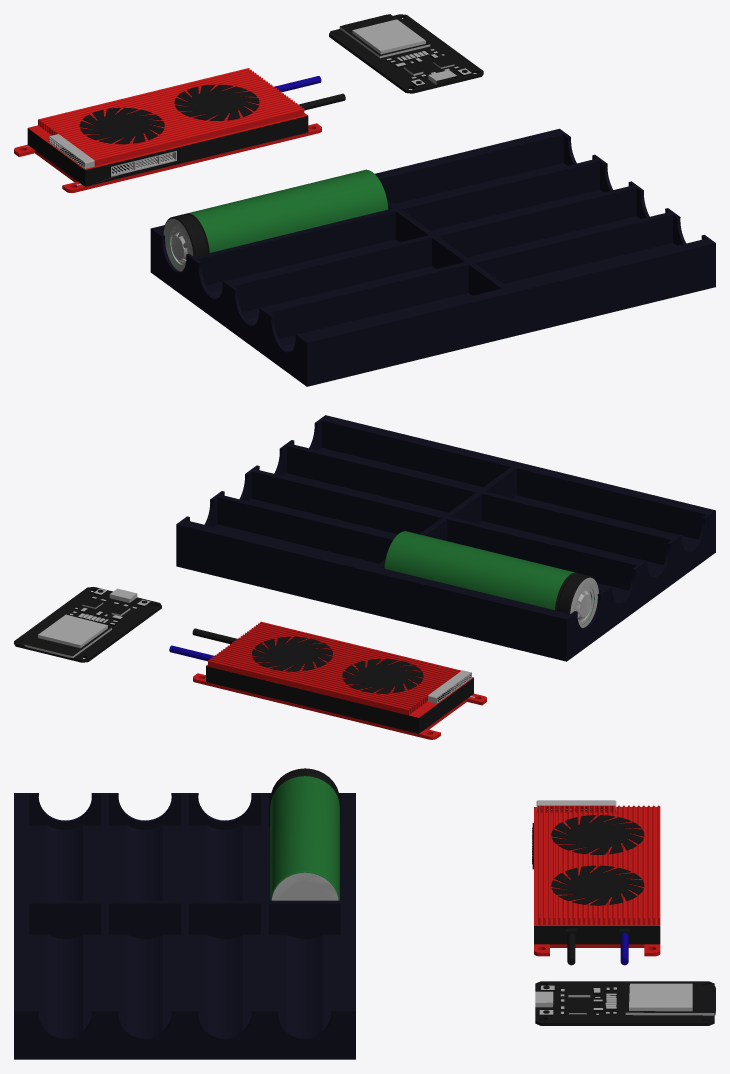
Rendered from BMSPack.fbx.
3 views of the same model, one above another, from view 1: azimuth 30°, elevation 25°; view 2: azimuth 150°, elevation 25°; view 3: azimuth 270°, elevation 25° (orthographic). The views are drawn at different scales.
Visible parts, largest first — view 1: BatteryTray, DALY_BMS, Cell_18650, Plane; view 2: BatteryTray, DALY_BMS, Cell_18650, Plane; view 3: BatteryTray, DALY_BMS, Cell_18650, Plane.
Part boxes in pixels (x1,y1,x2,y2): BatteryTray: (150, 128, 715, 386); DALY_BMS: (14, 68, 345, 192); Cell_18650: (163, 169, 388, 271); Plane: (329, 14, 483, 93); BatteryTray: (176, 415, 715, 661); DALY_BMS: (169, 621, 486, 739); Cell_18650: (384, 531, 598, 627); Plane: (14, 587, 161, 662); BatteryTray: (14, 793, 355, 1059); DALY_BMS: (532, 800, 660, 965); Cell_18650: (270, 768, 339, 900); Plane: (535, 981, 715, 1025).
Bounding box in the file's own units: 139 × 22 × 185.
